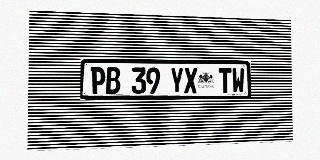3: (132, 67, 146, 94)
9: (146, 67, 160, 94)
B: (106, 67, 120, 94)
P: (90, 67, 105, 94)
T: (219, 68, 232, 93)
W: (232, 68, 245, 93)
X: (184, 68, 197, 93)
Y: (170, 68, 184, 93)
